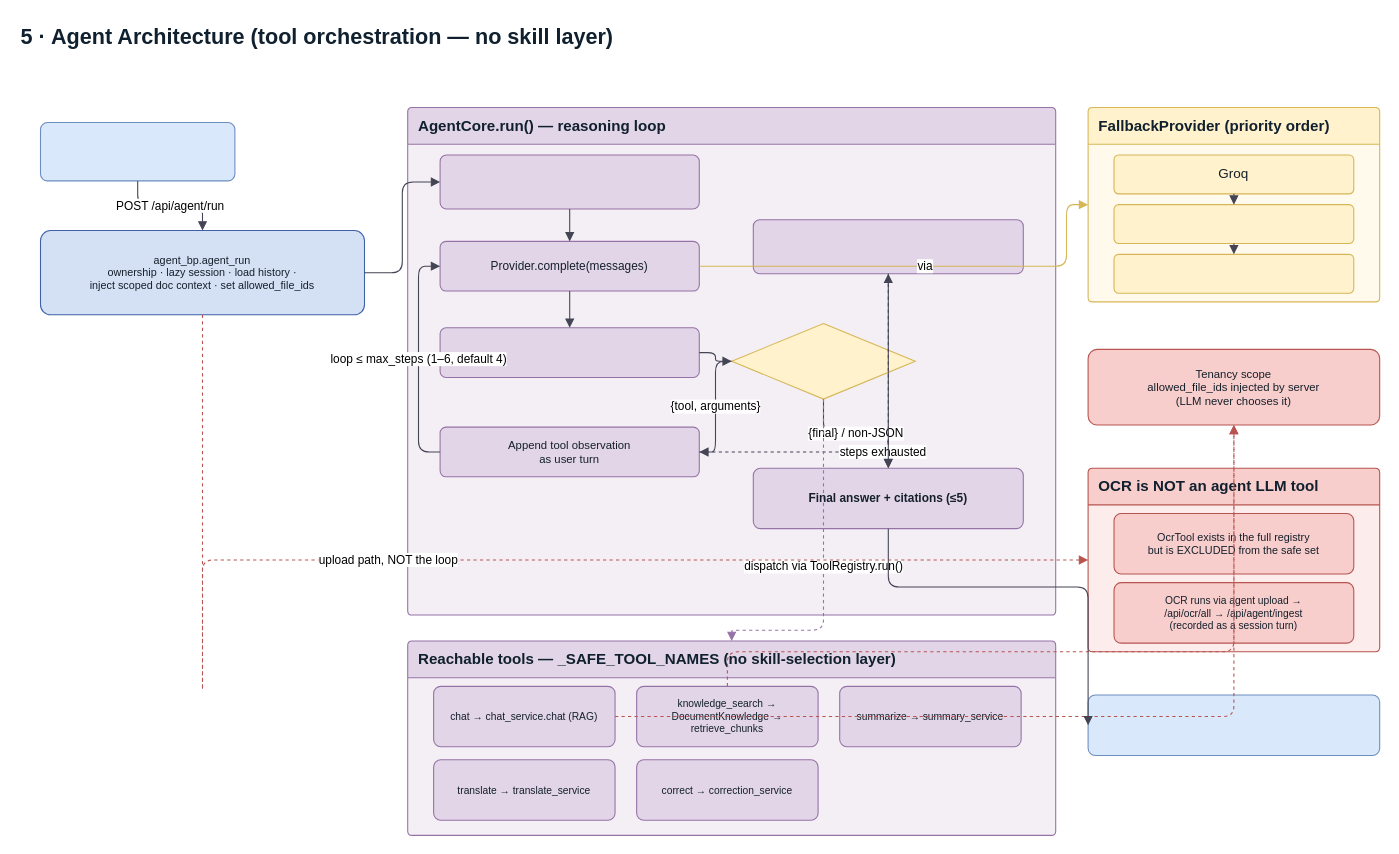
Some shapes in this 1399 by 854 pixel diagram are drawn without their labels. Each missing label, with the centre of its shape:
"_extract_json(raw) one JSON action" goes at [569,352].
"action type" goes at [823,360].
"Gemini" goes at [1233,224].
"Local Qwen" goes at [1233,273].
"Planning pass (optional) 1–3 sentence advisory plan" goes at [569,181].
"results.py → deep-links #ocr / #summarize / #chat" goes at [1233,724].
"Synthesis pass (on step exhaustion)" goes at [887,246].
"User · /agent" goes at [137,151].
